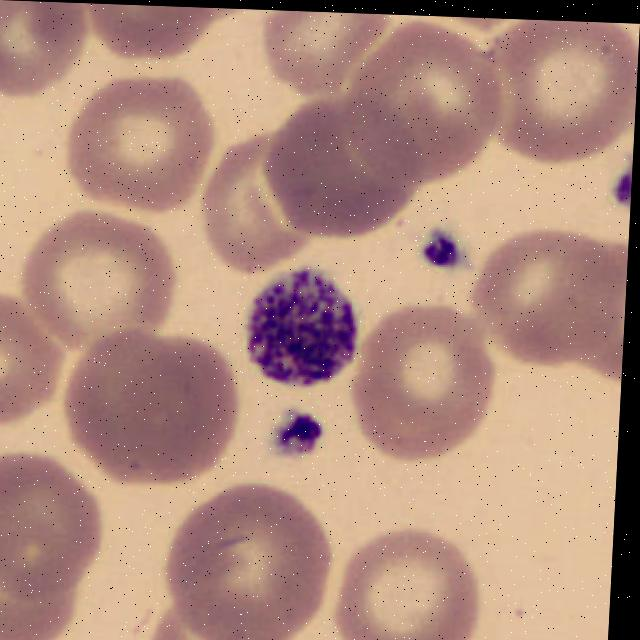platelets: (242, 264, 364, 391)
rbc: (62, 324, 251, 492), (345, 25, 513, 199), (163, 477, 336, 640), (56, 65, 228, 209), (351, 295, 494, 465), (268, 96, 426, 248), (17, 211, 175, 358), (486, 18, 640, 168), (330, 522, 503, 640), (195, 136, 330, 282), (488, 231, 622, 378), (0, 442, 116, 604), (259, 10, 398, 103), (0, 0, 101, 116), (84, 3, 229, 77), (137, 580, 301, 640), (0, 556, 101, 640), (576, 236, 629, 391)
